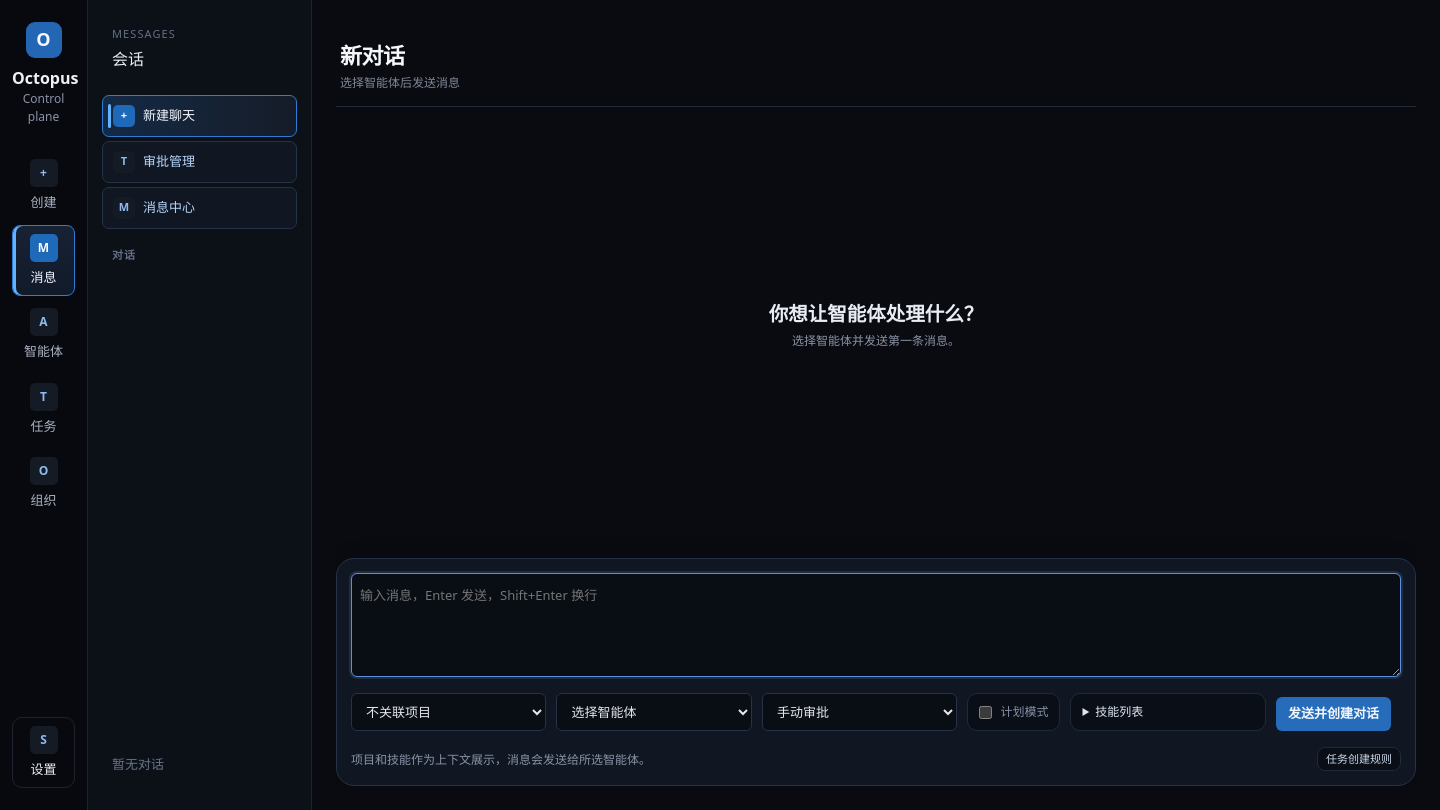
opens the conversation when the first reply request fails
Select "Builder (工程)" in the dropdown named "对话智能体" at point(654, 712), box [556, 693, 752, 731]
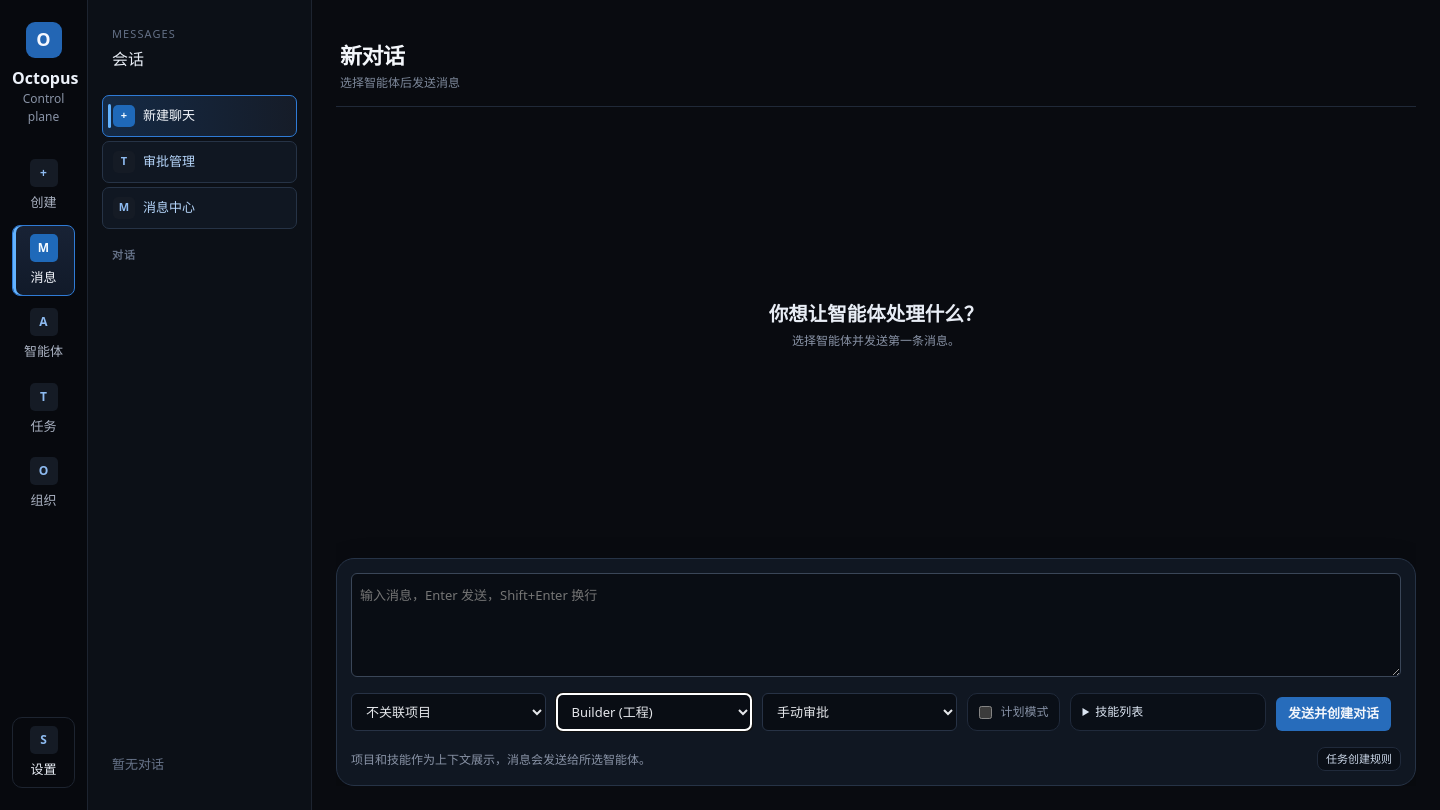
Type "请规划部署" into the text box named "消息输入" at point(876, 625), box [351, 573, 1401, 677]
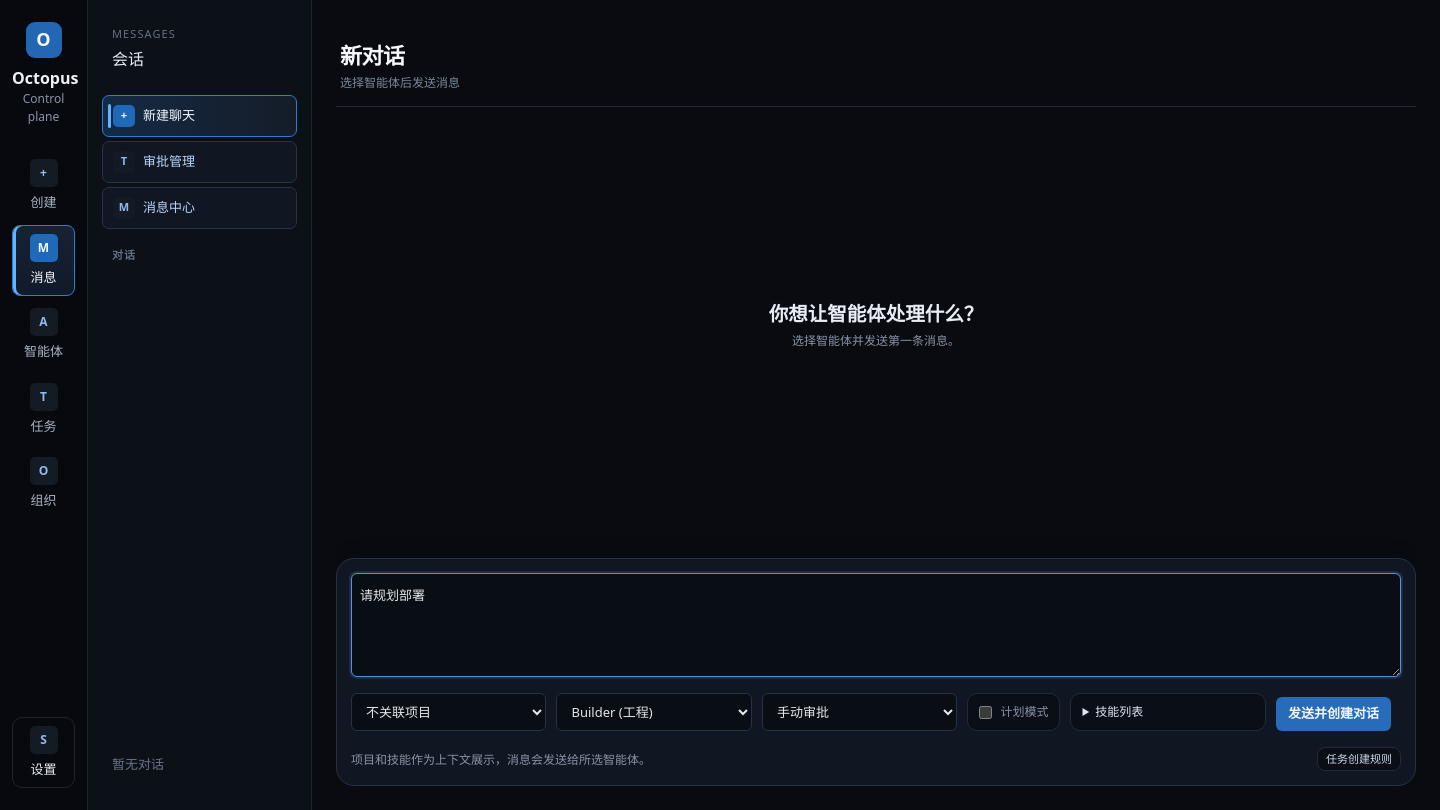
Click the button "发送并创建对话" at point(1334, 714), box [1276, 697, 1391, 731]
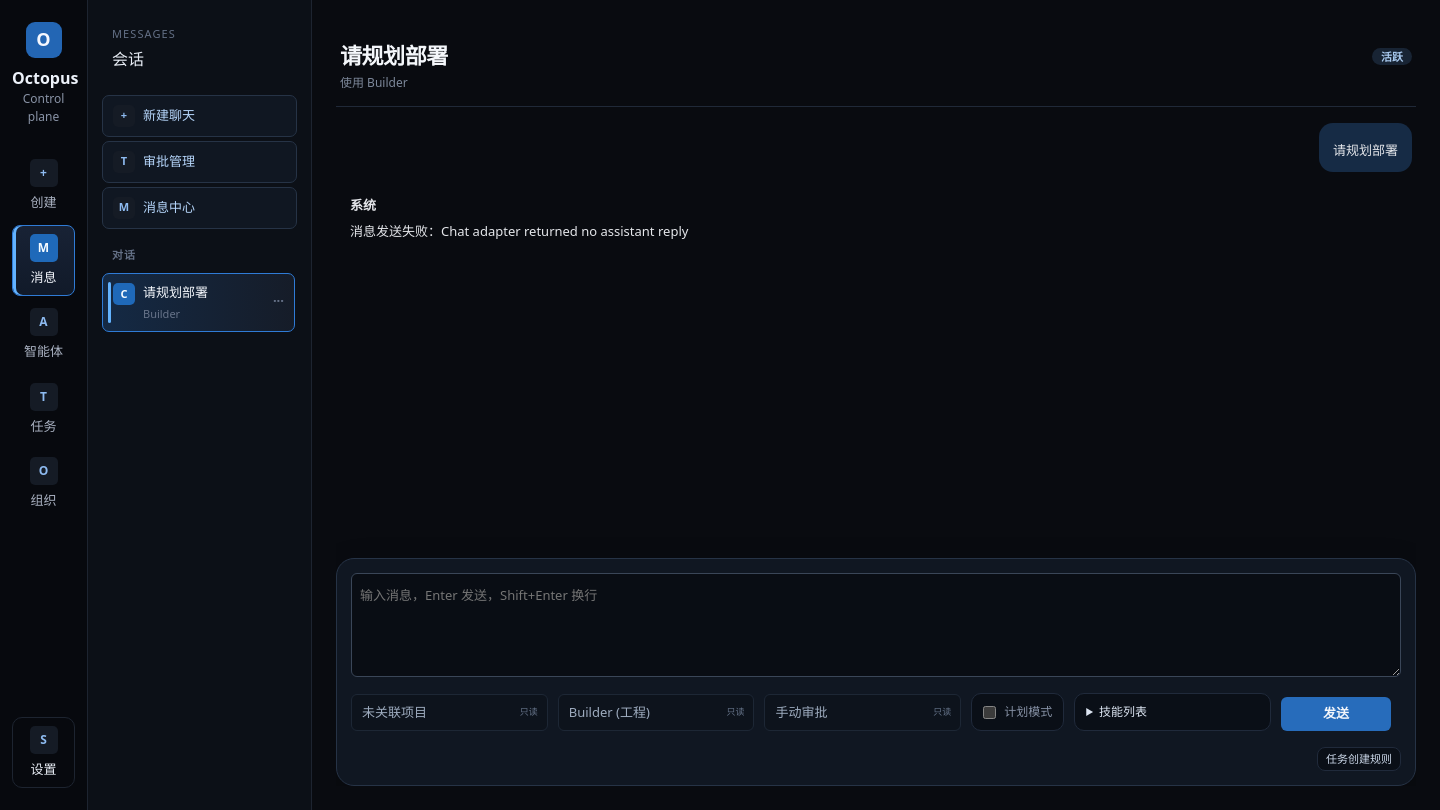
Now the heading "请规划部署" is shown, box [340, 42, 448, 70]
Now the text "请规划部署" below "活跃" is shown, box [1333, 140, 1398, 158]
Now the text "消息发送失败：Chat adapter returned no assistant reply" is shown, box [350, 222, 688, 240]
